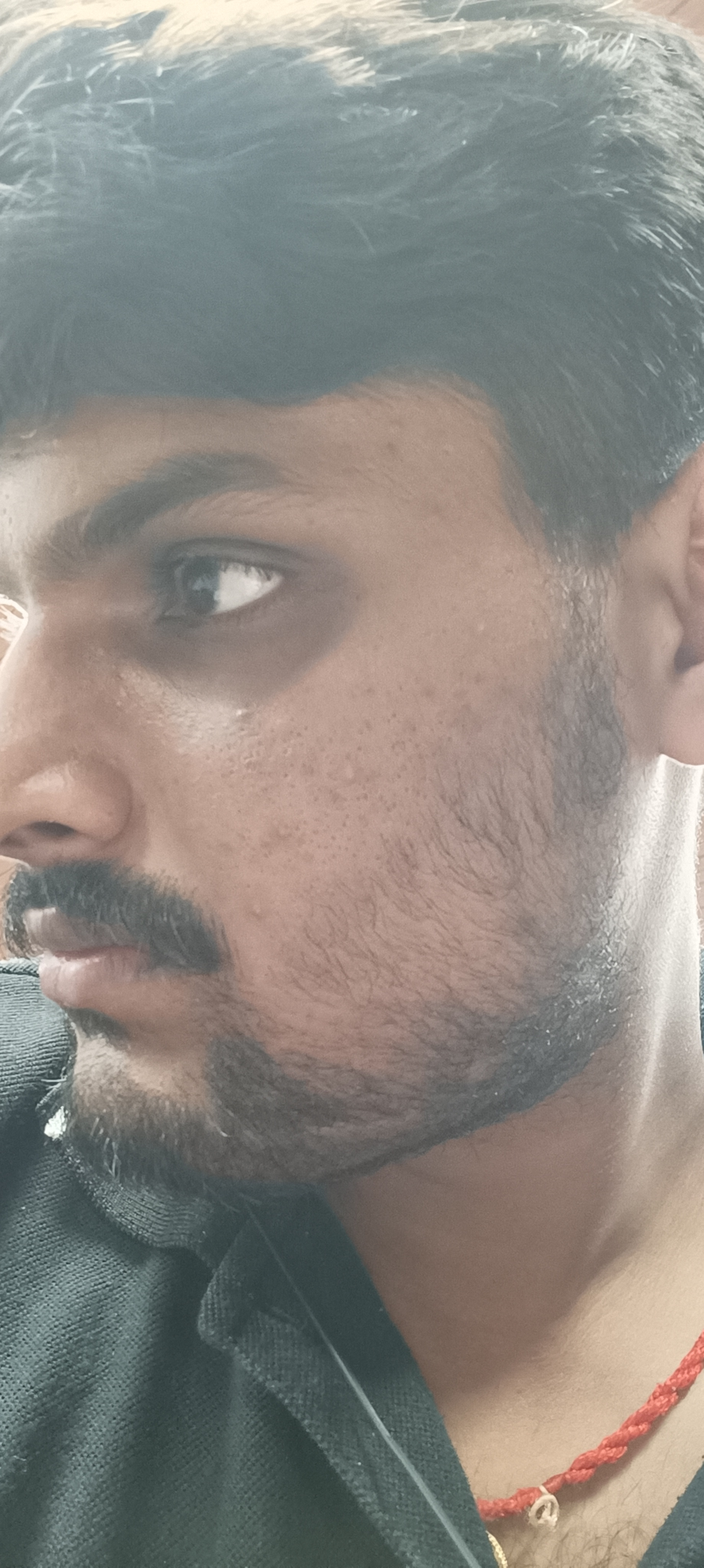papule: (245, 901, 272, 923), (342, 765, 361, 793), (272, 822, 295, 843)
